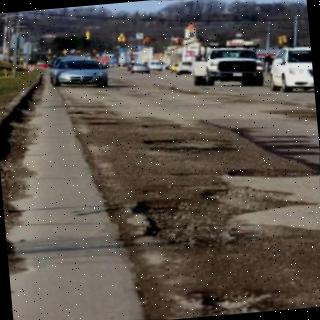pothole: (131, 191, 250, 249), (200, 292, 271, 316), (228, 169, 319, 179)
